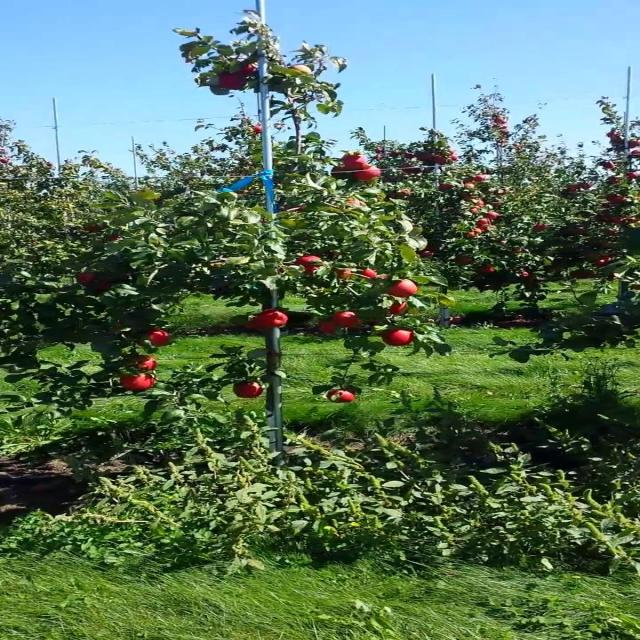apple: (249, 309, 289, 329), (120, 374, 156, 391), (389, 279, 418, 298), (233, 381, 264, 398), (382, 329, 413, 346), (340, 151, 369, 169), (218, 72, 247, 90), (351, 165, 382, 181), (333, 311, 360, 327), (295, 254, 321, 270), (327, 389, 356, 402), (147, 329, 169, 346), (233, 62, 258, 76), (135, 355, 156, 371), (76, 272, 96, 286), (318, 321, 338, 335), (388, 302, 410, 314), (389, 301, 407, 315), (289, 64, 311, 73), (331, 164, 350, 174), (94, 279, 110, 289), (335, 268, 351, 278), (362, 268, 377, 277), (345, 199, 363, 205)
